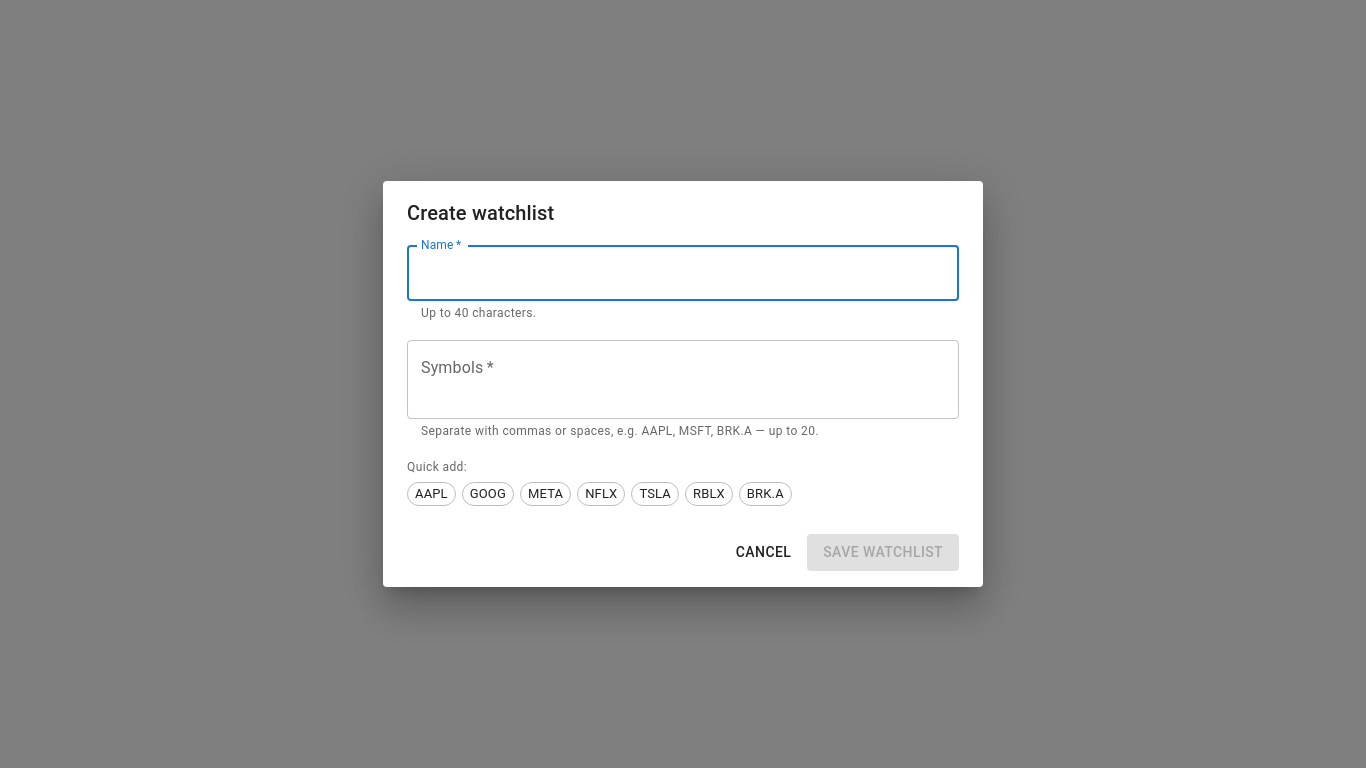
Test case: CreateWatchlistDialog › flags an impossible symbol immediately, but "required" only after leaving the field
This screenshot has width=1366, height=768.
Expected: the text "Give the watchlist a name." is not shown
In the text box with test id "watchlist-symbols-input": (683, 380) [421, 357, 945, 403], type "AAPL, bad!"
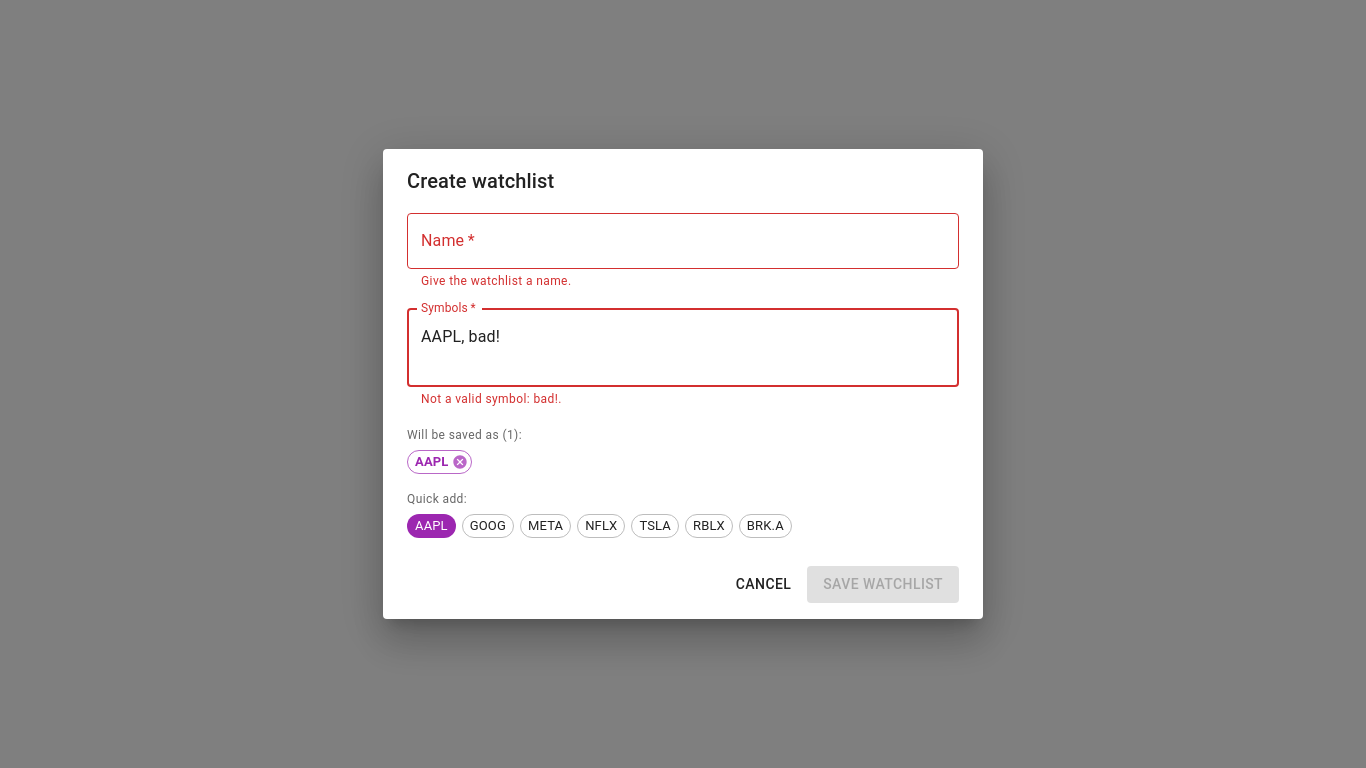
Expected: the button with test id "save-watchlist" is disabled, [807, 566, 959, 603]
Expected: the text "Not a valid symbol: bad!." is shown, [421, 392, 562, 406]
Expected: the text "Give the watchlist a name." is shown, [421, 274, 572, 288]
Note: "Add at least one symbol" likewise waits: clear the box while still in it.
Clear the text box with test id "watchlist-symbols-input": (683, 348) [421, 325, 945, 371]
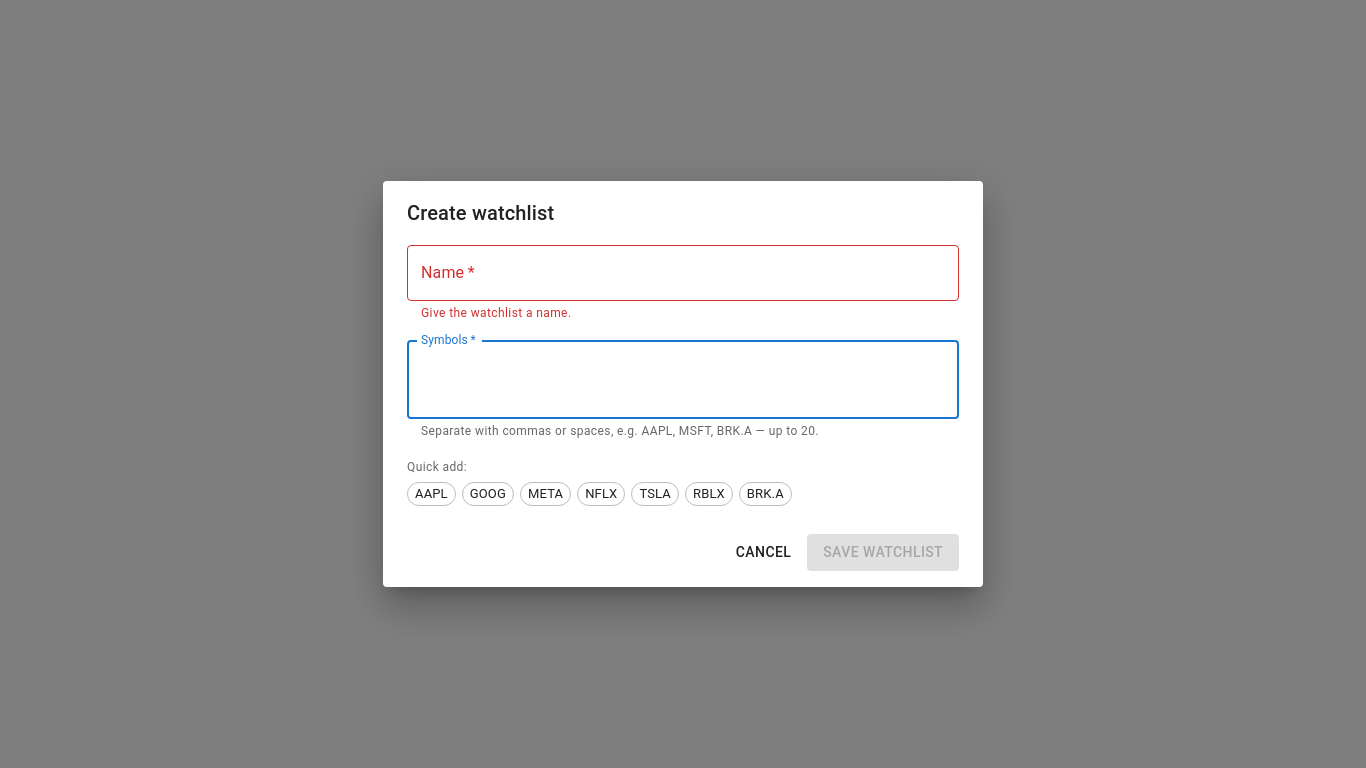
Expected: the text "Add at least one symbol." is not shown
Press Tab
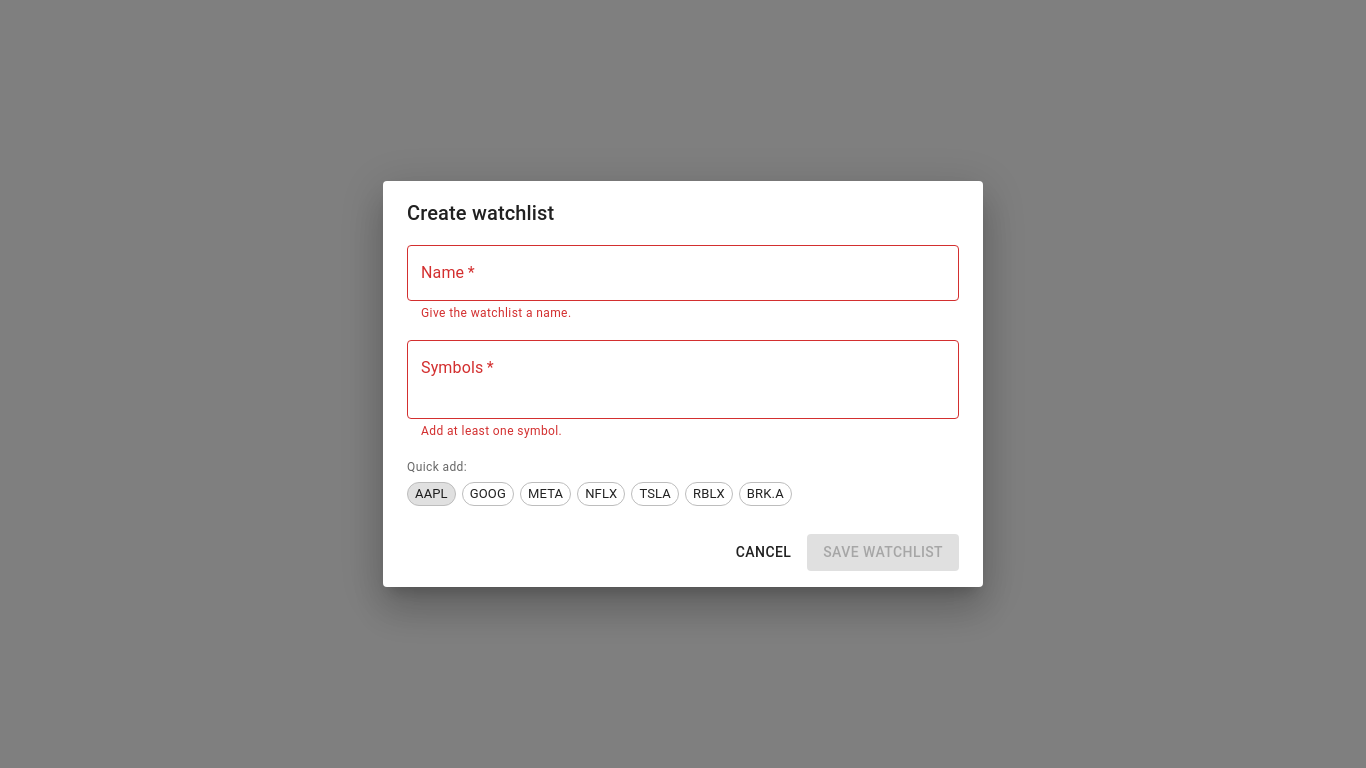
Expected: the text "Add at least one symbol." is shown, [421, 424, 562, 438]
